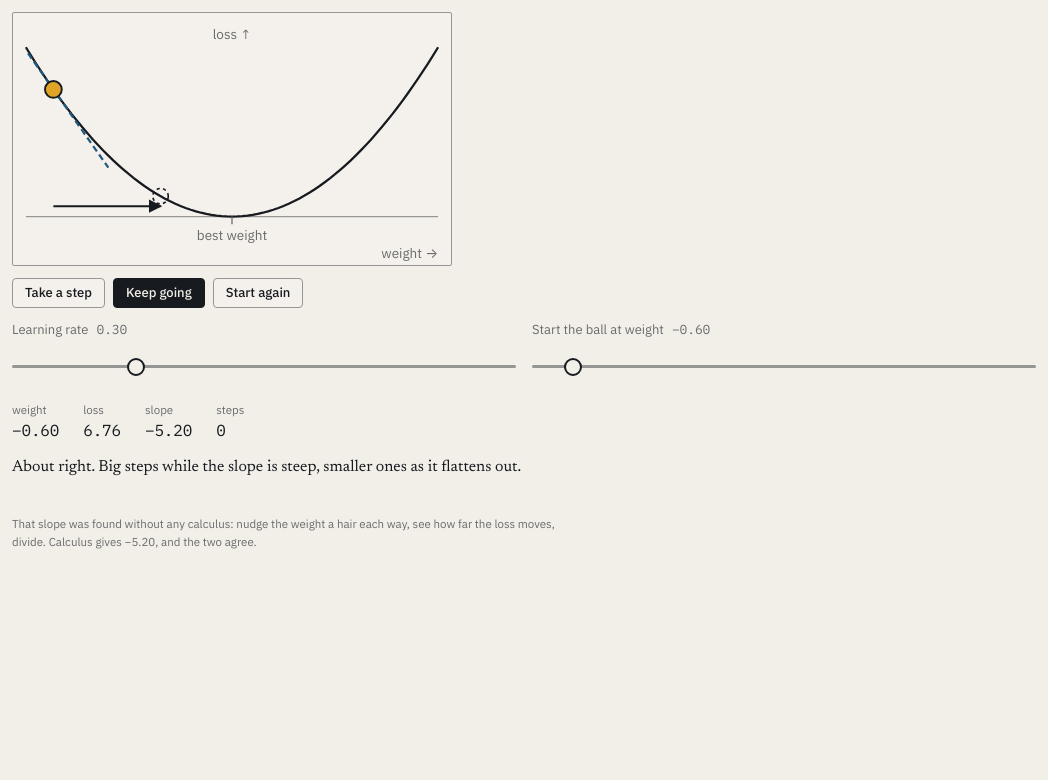
Test case: <GradientDescent1D> › at exactly half the slope, one step lands on the bottom and it says so
Set the slider labelled "Learning rate" to "0.5" at (219, 367), box [12,345,516,389]
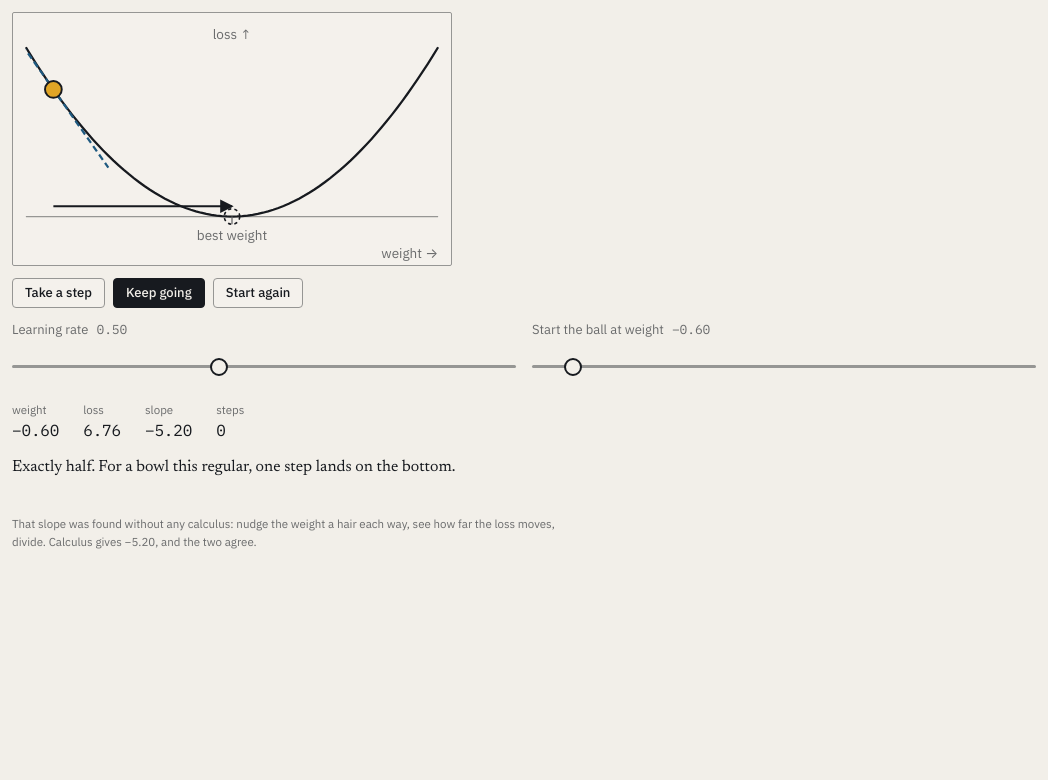
Now the message shows "Exactly half", box [12,459,455,475]
Click the button "Take a step" at (58, 294), box [12,278,105,308]
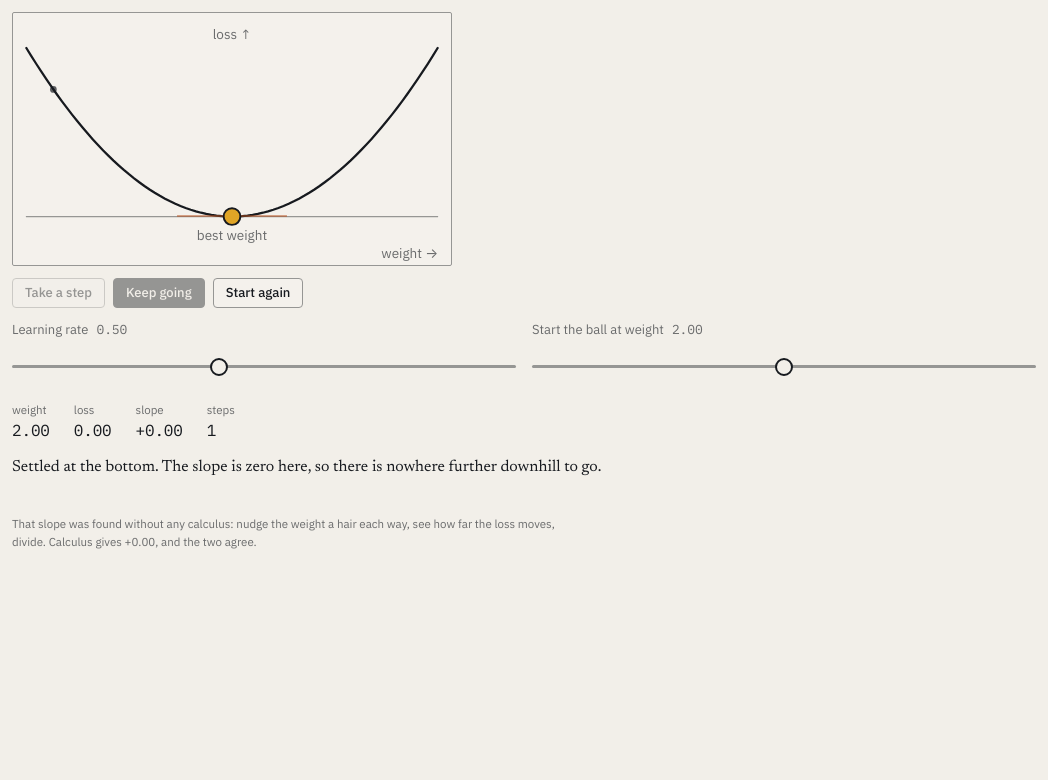
Now the message shows "Settled at the bottom", box [12,459,601,475]
Now the button "Take a step" is disabled, box [12,278,105,308]
